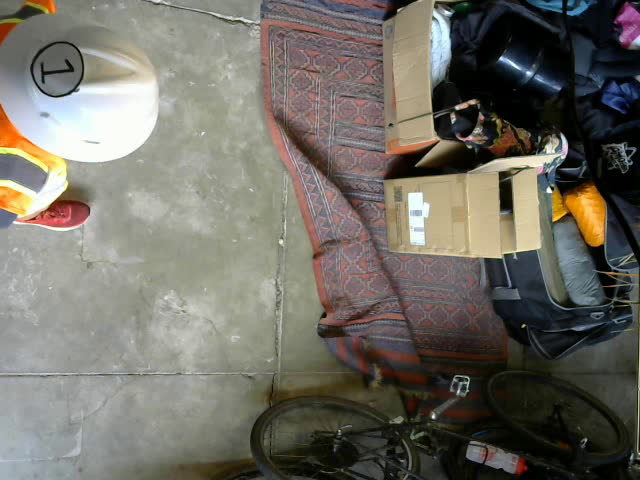one: (31, 41, 83, 97)
